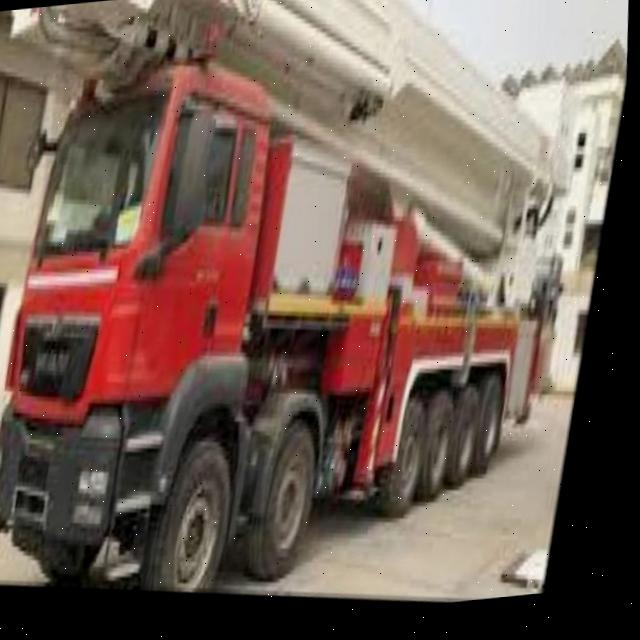emergency: (0, 0, 590, 615)
